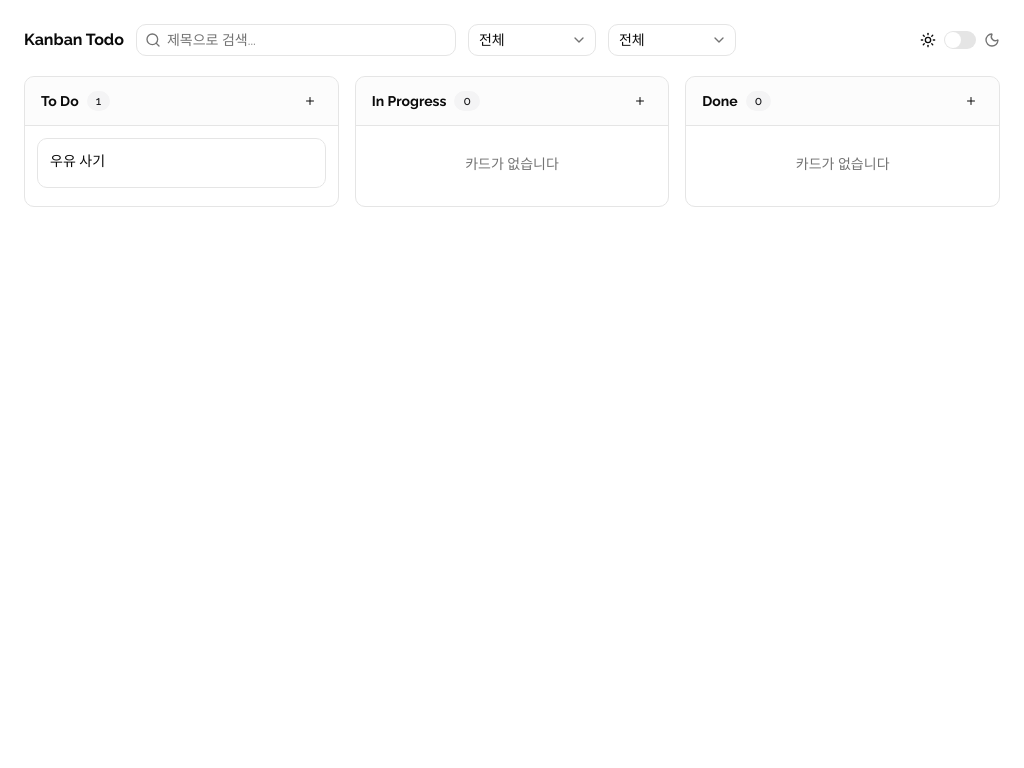
it: KANBAN-002: 카드 인라인 편집 › example 3: 우선순위 변경 → 배지 표시
The width and height of the screenshot is (1024, 768).
Click the text "우유 사기" at (78, 161), box [50,151,105,171]
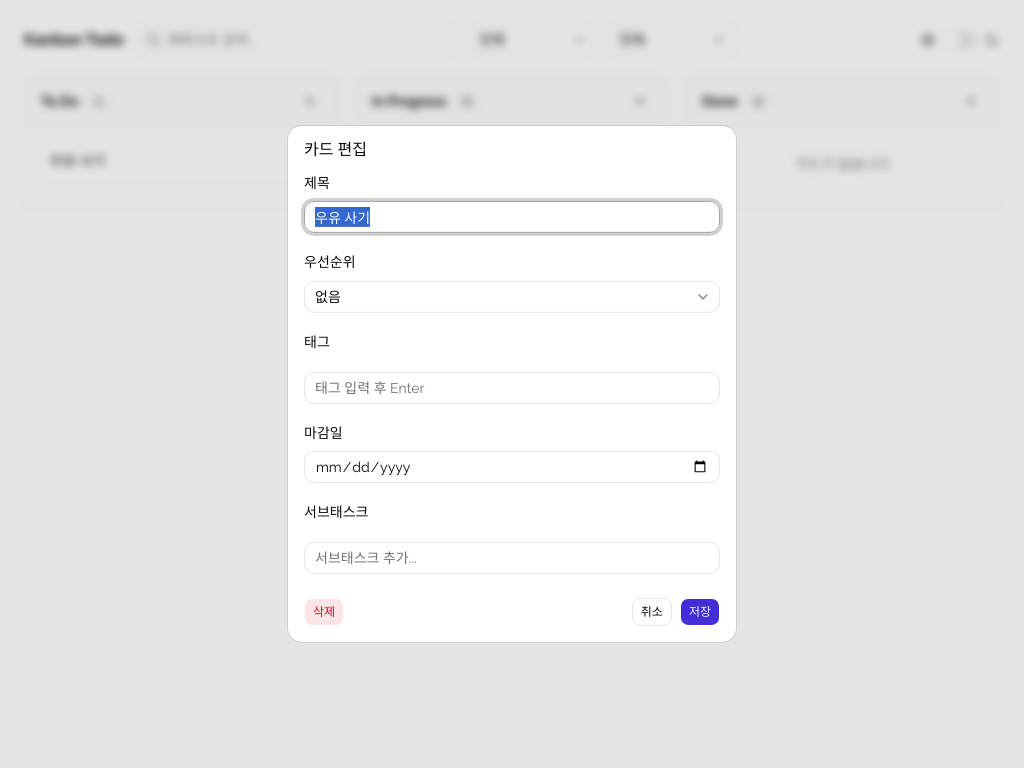
Now the dialog is shown, box [288,126,736,642]
Click the dropdown named "우선순위" at (328, 296), box [304,280,720,312]
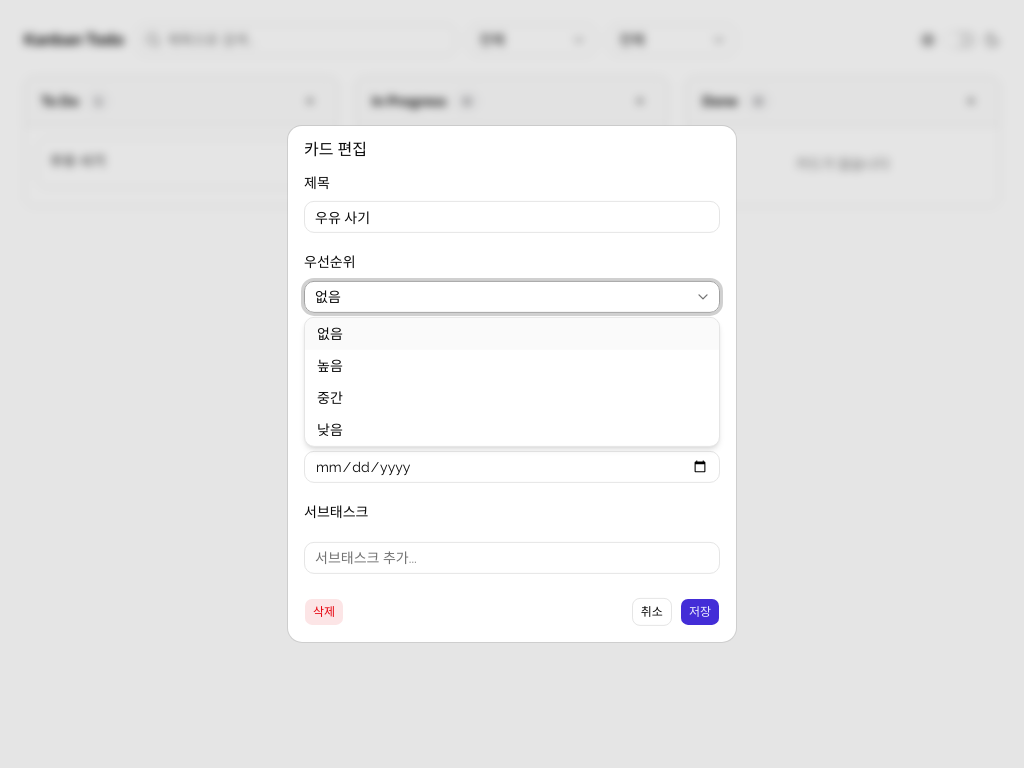
Click the option "높음" at (330, 365), box [317,357,343,373]
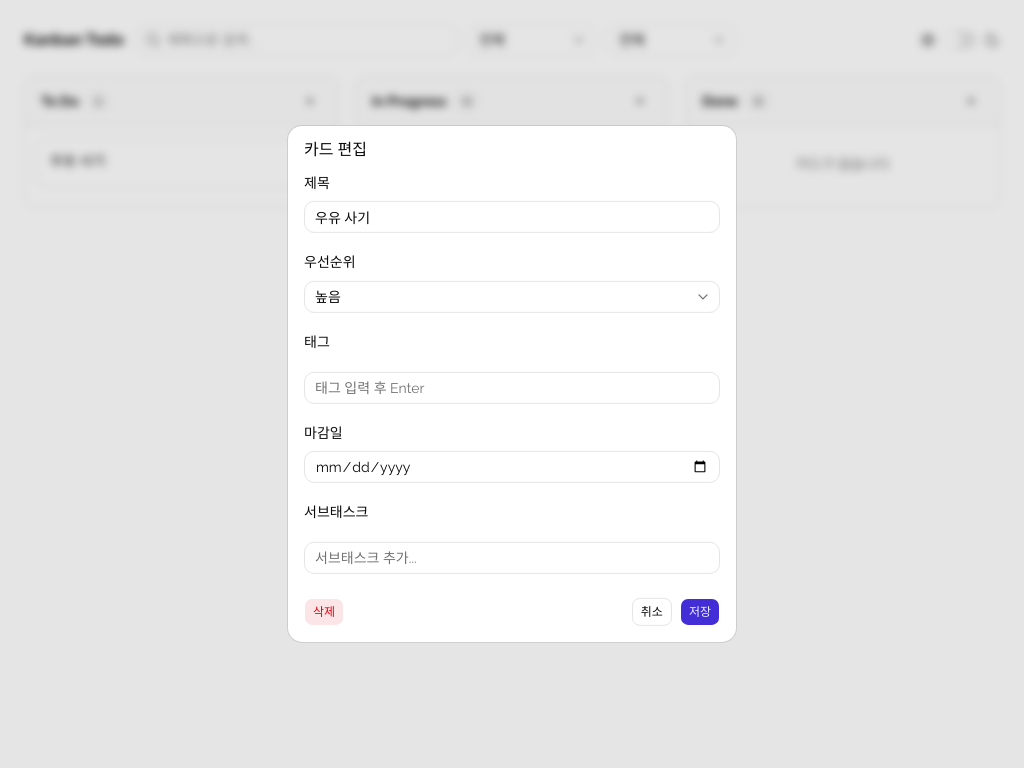
Click the button "저장" at (700, 612), box [680,598,720,626]
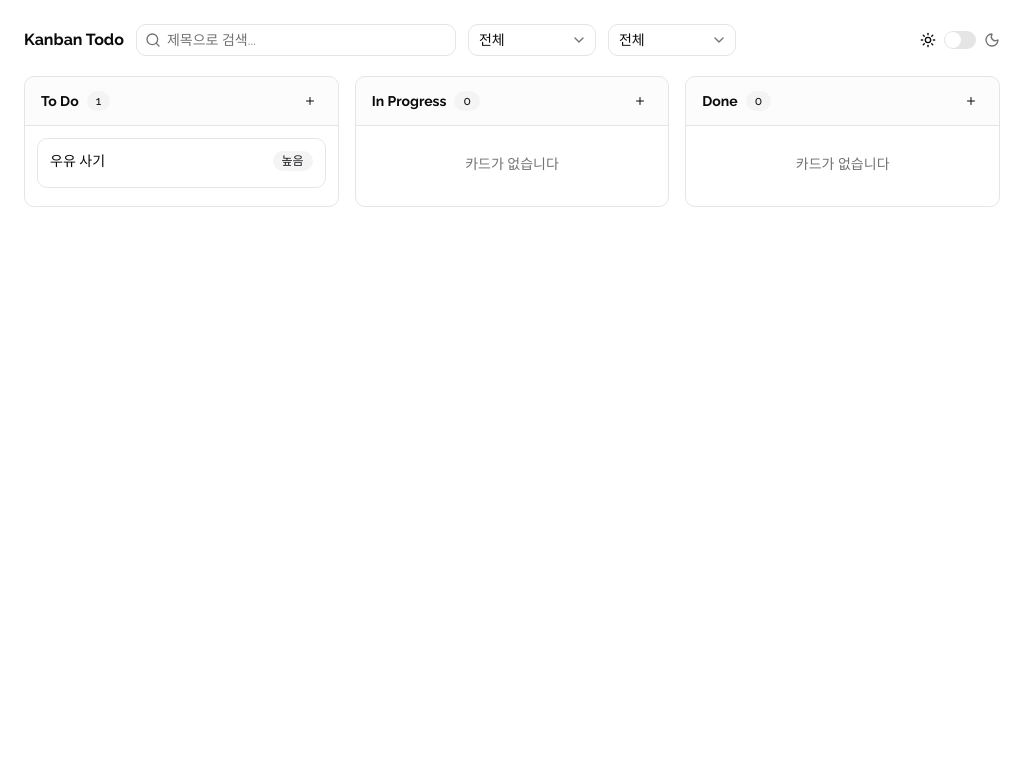
Now the icon "높음" is shown, box [273,151,313,171]
Now the dialog is gone
